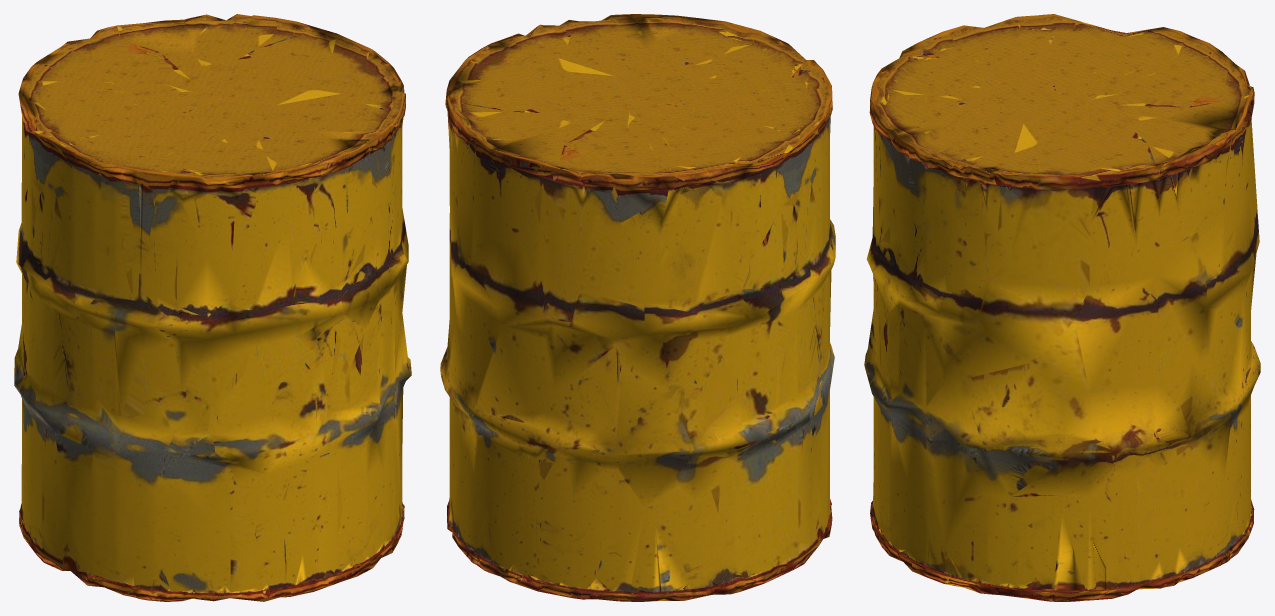
The model's file is oilBarrel.1ed0450a.glb.
3 views of the same model, side by side, from view 1: azimuth 30°, elevation 25°; view 2: azimuth 150°, elevation 25°; view 3: azimuth 270°, elevation 25° (orthographic).
Size of the model in its own units: 1.61 by 1.9 by 1.6.
Materials: 1 (1 with a texture image).
